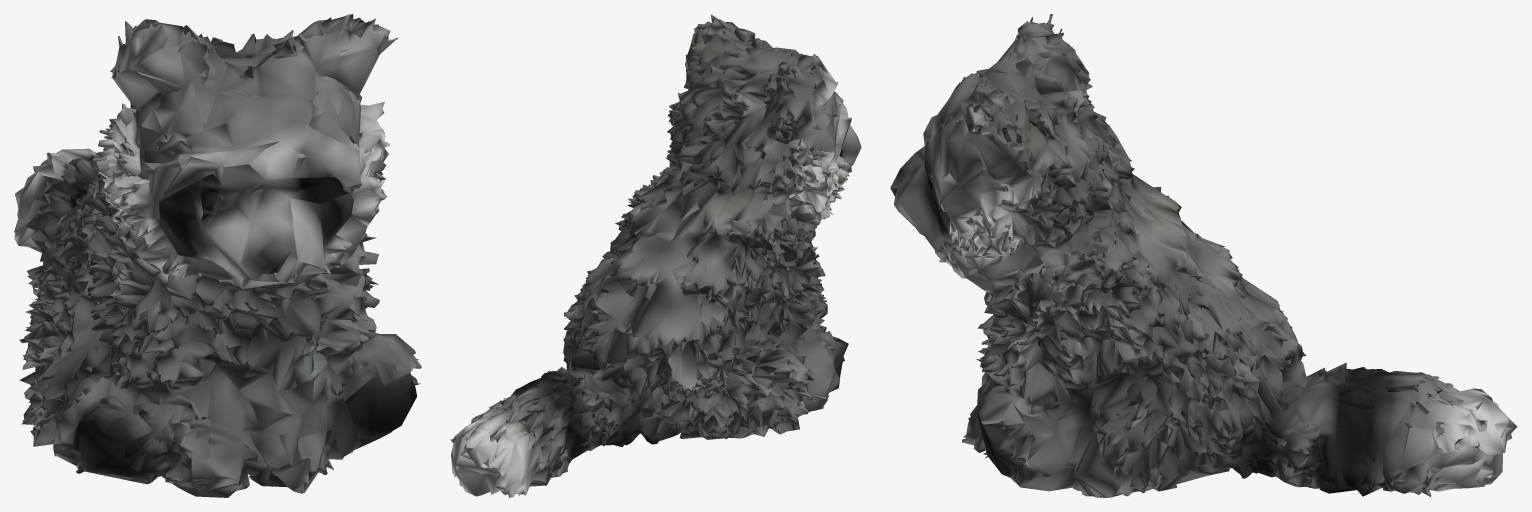
Rendered from Racoon-medium.glb.
3 renders of one model, left to right at view 1: azimuth 30°, elevation 25°; view 2: azimuth 150°, elevation 25°; view 3: azimuth 270°, elevation 25°, orthographic. The views are drawn at different scales.
Visible parts, largest first — view 1: Racoon; view 2: Racoon; view 3: Racoon.
Part boxes in pixels (x1,y1,x2,y2): Racoon: (14,14,421,497); Racoon: (450,14,861,497); Racoon: (890,14,1517,497).
Size of the model in its own units: 0.1505 by 0.2108 by 0.3131.
Materials: 1 (1 with a texture image).
